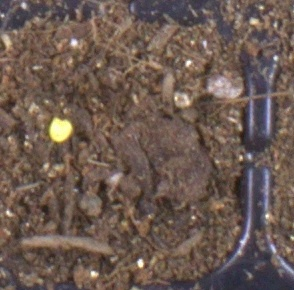chilli seed: (48, 116, 73, 143)
